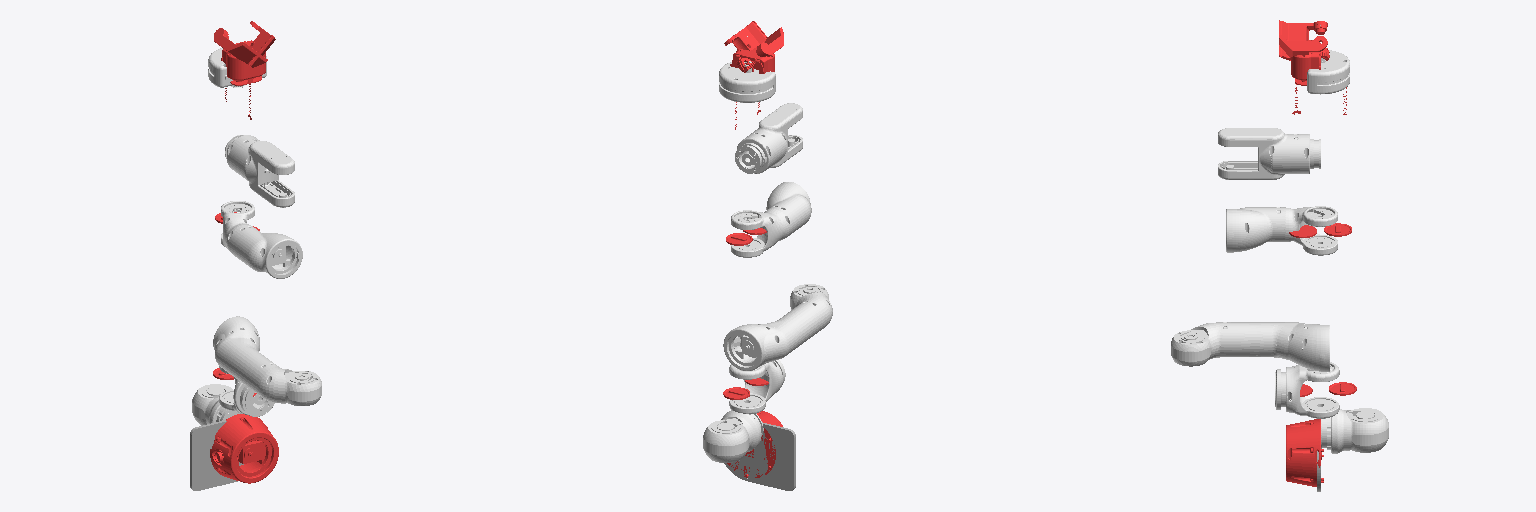
--- What the picture shows (computed from the rendered views, not written in the file) ---
Views: 3 orthographic renders of the robot side by side, from view 1: azimuth 30°, elevation 25°; view 2: azimuth 150°, elevation 25°; view 3: azimuth 270°, elevation 25°.
Robot: crane_x7 — 28 links, 27 joints (9 revolute, 18 fixed); root link world; default pose: joints at zero except 2 at the middle of their limits (crane_x7_gripper_finger_a_joint = 0.8153, crane_x7_gripper_finger_b_joint = 0.8153).
Links seen in each view (by area): view 1: crane_x7_upper_arm_revolute_part_link, crane_x7_lower_arm_fixed_part_link, crane_x7_shoulder_fixed_part_link, crane_x7_lower_arm_revolute_part_link, crane_x7_mounting_plate_link, crane_x7_shoulder_revolute_part_link, crane_x7_upper_arm_fixed_part_link, crane_x7_gripper_base_link, crane_x7_gripper_finger_a_link, crane_x7_wrist_link; view 2: crane_x7_upper_arm_revolute_part_link, crane_x7_lower_arm_fixed_part_link, crane_x7_lower_arm_revolute_part_link, crane_x7_mounting_plate_link, crane_x7_shoulder_revolute_part_link, crane_x7_wrist_link, crane_x7_upper_arm_fixed_part_link, crane_x7_gripper_finger_b_link, crane_x7_shoulder_fixed_part_link, crane_x7_gripper_base_link, crane_x7_gripper_finger_a_link; view 3: crane_x7_upper_arm_revolute_part_link, crane_x7_lower_arm_revolute_part_link, crane_x7_lower_arm_fixed_part_link, crane_x7_shoulder_revolute_part_link, crane_x7_upper_arm_fixed_part_link, crane_x7_shoulder_fixed_part_link, crane_x7_wrist_link, crane_x7_gripper_finger_a_link, crane_x7_gripper_base_link, crane_x7_gripper_finger_b_link.
Link boxes in pixels (x1,y1,x2,y2): crane_x7_upper_arm_revolute_part_link: (213,316,321,405); crane_x7_lower_arm_fixed_part_link: (221,201,302,278); crane_x7_shoulder_fixed_part_link: (210,414,278,483); crane_x7_lower_arm_revolute_part_link: (225,135,294,207); crane_x7_mounting_plate_link: (190,420,243,490); crane_x7_shoulder_revolute_part_link: (192,384,239,425); crane_x7_upper_arm_fixed_part_link: (219,366,274,416); crane_x7_gripper_base_link: (221,40,265,85); crane_x7_gripper_finger_a_link: (214,28,267,67); crane_x7_wrist_link: (208,48,266,87); crane_x7_upper_arm_revolute_part_link: (723,284,832,370); crane_x7_lower_arm_fixed_part_link: (731,182,811,257); crane_x7_lower_arm_revolute_part_link: (735,103,802,173); crane_x7_mounting_plate_link: (724,422,795,490); crane_x7_shoulder_revolute_part_link: (703,410,763,462); crane_x7_wrist_link: (719,61,775,102); crane_x7_upper_arm_fixed_part_link: (729,360,785,414); crane_x7_gripper_finger_b_link: (724,21,766,72); crane_x7_shoulder_fixed_part_link: (727,411,782,477); crane_x7_gripper_base_link: (730,44,774,73); crane_x7_gripper_finger_a_link: (736,27,783,72); crane_x7_upper_arm_revolute_part_link: (1171,322,1329,371); crane_x7_lower_arm_revolute_part_link: (1218,128,1320,179); crane_x7_lower_arm_fixed_part_link: (1226,206,1337,255); crane_x7_shoulder_revolute_part_link: (1321,408,1388,453); crane_x7_upper_arm_fixed_part_link: (1275,362,1339,418); crane_x7_shoulder_fixed_part_link: (1286,419,1323,486); crane_x7_wrist_link: (1307,50,1349,94); crane_x7_gripper_finger_a_link: (1279,20,1329,60); crane_x7_gripper_base_link: (1291,40,1320,85); crane_x7_gripper_finger_b_link: (1279,34,1329,57).
Size in the robot's own frame: 0.1299 by 0.312 by 0.7285 metres.
Meshes: 14 distinct files referenced, 19 mesh visuals loaded (14 Collada DAE).

The robot description file, URDF, robot "crane_x7":
<?xml version="1.0" ?>
<!-- =================================================================================== -->
<!-- |    This document was autogenerated by xacro from crane_x7.urdf.xacro            | -->
<!-- |    EDITING THIS FILE BY HAND IS NOT RECOMMENDED                                 | -->
<!-- =================================================================================== -->
<robot name="crane_x7" xmlns:controller="http://playerstage.sourceforge.net/gazebo/xmlschema/#controller" xmlns:interface="http://playerstage.sourceforge.net/gazebo/xmlschema/#interface" xmlns:sensor="http://playerstage.sourceforge.net/gazebo/xmlschema/#sensor">
  <material name="black">
    <color rgba="0.2 0.2 0.2 1.0"/>
  </material>
  <material name="white">
    <color rgba="0.95 0.95 0.95 1.0"/>
  </material>
  <material name="silver">
    <color rgba="0.75 0.75 0.75 1.0"/>
  </material>
  <material name="red">
    <color rgba="1.0 0.3 0.3 1.0"/>
  </material>
  <material name="green">
    <color rgba="0.3 1.0 0.3 1.0"/>
  </material>
  <material name="blue">
    <color rgba="0.3 0.3 1.0 1.0"/>
  </material>
  <!-- Link to provide the location reference for the arm -->
  <link name="base_link"/>
  <!-- Used for fixing robot to Gazebo 'base_link' -->
  <link name="world"/>
  <joint name="base_link_to_world_joint" type="fixed">
    <parent link="world"/>
    <child link="base_link"/>
  </joint>
  <joint name="crane_x7_mounting_plate_joint" type="fixed">
    <origin xyz="0 0 0"/>
    <parent link="base_link"/>
    <child link="crane_x7_mounting_plate_link"/>
  </joint>
  <link name="crane_x7_mounting_plate_link">
    <visual>
      <origin rpy="0 0 0" xyz="0 0 0"/>
      <geometry>
        <mesh filename="../meshes/visual/mounting_plate.dae" scale="1 1 1"/>
      </geometry>
      <material name="silver"/>
    </visual>
    <collision>
      <origin rpy="0 0 0" xyz="0 0 0"/>
      <geometry>
        <mesh filename="../meshes/collision/mounting_plate.obj" scale="1 1 1"/>
      </geometry>
      <!-- <sdf resolution="256"/> -->
    </collision>
  </link>
  <!-- For gazebo simulation -->
  <gazebo reference="crane_x7_mounting_plate_link">
    <material>Gazebo/Black</material>
  </gazebo>
  <!-- crane_x7_joint_base -->
  <joint name="crane_x7_shoulder_fixed_part_mount_joint" type="fixed">
    <origin rpy="0 0 0" xyz="0 0 0.005"/>
    <parent link="crane_x7_mounting_plate_link"/>
    <child link="crane_x7_shoulder_fixed_part_link"/>
  </joint>
  <!-- crane_x7_link_base -->
  <link name="crane_x7_shoulder_fixed_part_link">
    <visual>
      <origin rpy="0 0 0" xyz="0 0 0"/>
      <geometry>
        <mesh filename="../meshes/visual/base_fixed_part.dae" scale="1 1 1"/>
      </geometry>
      <material name="red"/>
    </visual>
    <collision>
      <origin rpy="0 0 0" xyz="0 0 0"/>
      <geometry>
        <mesh filename="../meshes/collision/base_fixed_part.obj" scale="1 1 1"/>
      </geometry>
      <!-- <sdf resolution="256"/> -->
    </collision>
    <inertial>
      <mass value="0.388"/>
      <origin rpy="0 0 0" xyz="-6.73E-03 -1.00E-06 1.79E-02"/>
      <inertia ixx="3.25E-04" ixy="1.20E-09" ixz="-4.71E-05" iyy="4.83E-04" iyz="1.95E-08" izz="5.86E-04"/>
    </inertial>
  </link>
  <!-- crane_x7_joint_1 -->
  <joint name="crane_x7_shoulder_fixed_part_pan_joint" type="revolute">
    <origin rpy="0 0 0" xyz="0 0 0.036"/>
    <axis xyz="0 0 1"/>
    <limit effort="10.0" lower="-2.97132" upper="2.97132" velocity="4.81710873"/>
    <parent link="crane_x7_shoulder_fixed_part_link"/>
    <child link="crane_x7_shoulder_revolute_part_link"/>
    <dynamics damping="1.0e-6" friction="2.0e-1"/>
  </joint>
  <!-- For gazebo simulation -->
  <transmission name="crane_x7_shoulder_fixed_part_pan_joint_trans">
    <provideFeedback>true</provideFeedback>
    <implicitSpringDamper>0</implicitSpringDamper>
    <motorTorqueConstant>0.418</motorTorqueConstant>
    <type>transmission_interface/SimpleTransmission</type>
    <joint name="crane_x7_shoulder_fixed_part_pan_joint">
      <hardwareInterface>hardware_interface/PositionJointInterface</hardwareInterface>
    </joint>
    <actuator name="crane_x7_shoulder_fixed_part_pan_joint_motor">
      <hardwareInterface>hardware_interface/PositionJointInterface</hardwareInterface>
      <mechanicalReduction>1</mechanicalReduction>
    </actuator>
  </transmission>
  <!-- crane_x7_link_1 -->
  <link name="crane_x7_shoulder_revolute_part_link">
    <visual>
      <origin rpy="0 0 3.14159" xyz="0 0 0"/>
      <geometry>
        <mesh filename="../meshes/visual/base_revolute_part.dae" scale="1 1 1"/>
      </geometry>
      <material name="white"/>
    </visual>
    <collision>
      <!--<origin xyz="0 0 0" rpy="0 0 ${M_PI}"/>-->
      <!--<geometry>-->
      <!--<mesh filename="../meshes/collision/base_revolute_part.obj"-->
      <!--scale="1 1 1"/>-->
      <!--</geometry>-->
      <origin rpy="0 0 0" xyz="0 0 0.0296"/>
      <geometry>
        <cylinder length="0.0295" radius="0.0334"/>
      </geometry>
      <!-- <sdf resolution="256"/> -->
    </collision>
    <collision>
      <origin rpy="1.570795 0 0" xyz="0 0 0.064"/>
      <geometry>
        <cylinder length="0.0491" radius="0.034"/>
      </geometry>
      <!-- <sdf resolution="256"/> -->
    </collision>
    <inertial>
      <mass value="0.253"/>
      <origin rpy="0 0 0" xyz="2.43e-04 -1.05E-04 4.70E-02"/>
      <inertia ixx="1.79E-04" ixy="-7.32E-08" ixz="8.89E-07" iyy="1.76E-04" iyz="6.23E-07" izz="8.96E-05"/>
    </inertial>
  </link>
  <!-- crane_x7_joint_2 -->
  <joint name="crane_x7_shoulder_revolute_part_tilt_joint" type="revolute">
    <origin rpy="0 0 0" xyz="0 0 0.064"/>
    <axis xyz="0 -1 0"/>
    <limit effort="10.0" lower="-1.570795" upper="1.570795" velocity="4.81710873"/>
    <parent link="crane_x7_shoulder_revolute_part_link"/>
    <child link="crane_x7_upper_arm_fixed_part_link"/>
    <dynamics damping="1.0e-6" friction="2.0e-1"/>
  </joint>
  <!-- For gazebo simulation -->
  <transmission name="crane_x7_shoulder_revolute_part_tilt_joint_trans">
    <provideFeedback>true</provideFeedback>
    <implicitSpringDamper>0</implicitSpringDamper>
    <motorTorqueConstant>0.418</motorTorqueConstant>
    <type>transmission_interface/SimpleTransmission</type>
    <joint name="crane_x7_shoulder_revolute_part_tilt_joint">
      <hardwareInterface>hardware_interface/PositionJointInterface</hardwareInterface>
    </joint>
    <actuator name="crane_x7_shoulder_revolute_part_tilt_joint_motor">
      <hardwareInterface>hardware_interface/PositionJointInterface</hardwareInterface>
      <mechanicalReduction>1</mechanicalReduction>
    </actuator>
  </transmission>
  <!-- crane_x7_link_2 -->
  <link name="crane_x7_upper_arm_fixed_part_link">
    <visual>
      <origin rpy="1.570795 0 0" xyz="0 0 0"/>
      <geometry>
        <mesh filename="../meshes/visual/rotating_link_type_1_fixed_part.dae" scale="1 1 1"/>
      </geometry>
      <material name="white"/>
    </visual>
    <collision>
      <origin rpy="1.570795 0 0" xyz="0 0 0"/>
      <geometry>
        <mesh filename="../meshes/collision/rotating_link_type_1_fixed_part.obj" scale="1 1 1"/>
      </geometry>
      <!-- <sdf resolution="256"/> -->
    </collision>
    <inertial>
      <mass value="0.136"/>
      <origin rpy="1.570795 0 0" xyz="3.10E-05 1.90E-05 3.42E-02"/>
      <inertia ixx="1.68E-04" ixy="2.05E-08" ixz="-4.00E-07" iyy="9.62E-05" iyz="6.24E-08" izz="1.34E-04"/>
    </inertial>
  </link>
  <!-- crane_x7_joint_cover_2_l -->
  <joint name="crane_x7_upper_arm_fixed_part_joint_cover_l_joint" type="fixed">
    <parent link="crane_x7_upper_arm_fixed_part_link"/>
    <child link="crane_x7_upper_arm_fixed_part_joint_cover_l_link"/>
    <origin rpy="0 0 0" xyz="0 0.0316 0"/>
  </joint>
  <!-- crane_x7_link_cover_2_l -->
  <link name="crane_x7_upper_arm_fixed_part_joint_cover_l_link">
    <visual>
      <origin rpy="-1.570795 0 0" xyz="0 0 0"/>
      <geometry>
        <mesh filename="../meshes/visual/joint_cover.dae" scale="1 1 1"/>
      </geometry>
      <material name="red"/>
    </visual>
    <collision>
      <origin rpy="-1.570795 0 0" xyz="0 0 0"/>
      <geometry>
        <mesh filename="../meshes/visual/joint_cover.dae" scale="1 1 1"/>
      </geometry>
      <!-- <sdf resolution="256"/> -->
    </collision>
  </link>
  <!-- crane_x7_joint_cover_2_r -->
  <joint name="crane_x7_upper_arm_fixed_part_joint_cover_r_joint" type="fixed">
    <parent link="crane_x7_upper_arm_fixed_part_link"/>
    <child link="crane_x7_upper_arm_fixed_part_joint_cover_r_link"/>
    <origin rpy="0 0 0" xyz="0 -0.0316 0"/>
  </joint>
  <!-- crane_x7_link_cover_2_r -->
  <link name="crane_x7_upper_arm_fixed_part_joint_cover_r_link">
    <visual>
      <origin rpy="1.570795 0 0" xyz="0 0 0"/>
      <geometry>
        <mesh filename="../meshes/visual/joint_cover.dae" scale="1 1 1"/>
      </geometry>
      <material name="red"/>
    </visual>
    <collision>
      <origin rpy="1.570795 0 0" xyz="0 0 0"/>
      <geometry>
        <mesh filename="../meshes/visual/joint_cover.dae" scale="1 1 1"/>
      </geometry>
      <!-- <sdf resolution="256"/> -->
    </collision>
  </link>
  <!-- crane_x7_joint_3 -->
  <joint name="crane_x7_upper_arm_revolute_part_twist_joint" type="revolute">
    <origin rpy="0 0 0" xyz="0 0 0.065"/>
    <axis xyz="0 0 1"/>
    <limit effort="4.0" lower="-1.570795" upper="1.570795" velocity="4.81710873"/>
    <parent link="crane_x7_upper_arm_fixed_part_link"/>
    <child link="crane_x7_upper_arm_revolute_part_link"/>
    <dynamics damping="1.0e-6" friction="2.0e-1"/>
  </joint>
  <!-- For gazebo simulation -->
  <transmission name="crane_x7_upper_arm_revolute_part_twist_joint_trans">
    <provideFeedback>true</provideFeedback>
    <implicitSpringDamper>0</implicitSpringDamper>
    <motorTorqueConstant>0.418</motorTorqueConstant>
    <type>transmission_interface/SimpleTransmission</type>
    <joint name="crane_x7_upper_arm_revolute_part_twist_joint">
      <hardwareInterface>hardware_interface/PositionJointInterface</hardwareInterface>
    </joint>
    <actuator name="crane_x7_upper_arm_revolute_part_twist_joint_motor">
      <hardwareInterface>hardware_interface/PositionJointInterface</hardwareInterface>
      <mechanicalReduction>1</mechanicalReduction>
    </actuator>
  </transmission>
  <!-- crane_x7_link_3 -->
  <link name="crane_x7_upper_arm_revolute_part_link">
    <visual>
      <origin rpy="0 0 0" xyz="0 0 0"/>
      <geometry>
        <mesh filename="../meshes/visual/rotating_link_type_1_revolute_part.dae" scale="1 1 1"/>
      </geometry>
      <material name="white"/>
    </visual>
    <collision>
      <origin rpy="0 0 0" xyz="0 0 0"/>
      <geometry>
        <mesh filename="../meshes/collision/rotating_link_type_1_revolute_part.obj" scale="1 1 1"/>
      </geometry>
      <!-- <sdf resolution="256"/> -->
    </collision>
    <inertial>
      <mass value="0.321"/>
      <origin rpy="0 0 0" xyz="-1.37E-02 -8.10E-05 9.52E-02"/>
      <inertia ixx="1.82E-03" ixy="7.54E-07" ixz="-3.73E-05" iyy="1.88E-03" iyz="4.15E-06" izz="1.59E-04"/>
    </inertial>
  </link>
  <!-- crane_x7_joint_4 -->
  <joint name="crane_x7_upper_arm_revolute_part_rotate_joint" type="revolute">
    <origin rpy="0 0 0" xyz="0 0 0.185"/>
    <axis xyz="0 -1 0"/>
    <limit effort="4.0" lower="-2.80718" upper="0.04141" velocity="4.81710873"/>
    <parent link="crane_x7_upper_arm_revolute_part_link"/>
    <child link="crane_x7_lower_arm_fixed_part_link"/>
    <dynamics damping="1.0e-6" friction="2.0e-1"/>
  </joint>
  <!-- For gazebo simulation -->
  <transmission name="crane_x7_upper_arm_revolute_part_rotate_joint_trans">
    <provideFeedback>true</provideFeedback>
    <implicitSpringDamper>0</implicitSpringDamper>
    <motorTorqueConstant>0.418</motorTorqueConstant>
    <type>transmission_interface/SimpleTransmission</type>
    <joint name="crane_x7_upper_arm_revolute_part_rotate_joint">
      <hardwareInterface>hardware_interface/PositionJointInterface</hardwareInterface>
    </joint>
    <actuator name="crane_x7_upper_arm_revolute_part_rotate_joint_motor">
      <hardwareInterface>hardware_interface/PositionJointInterface</hardwareInterface>
      <mechanicalReduction>1</mechanicalReduction>
    </actuator>
  </transmission>
  <!-- crane_x7_link_4 -->
  <link name="crane_x7_lower_arm_fixed_part_link">
    <visual>
      <origin rpy="1.570795 0 0" xyz="0 0 0"/>
      <geometry>
        <mesh filename="../meshes/visual/rotating_link_type_2_fixed_part.dae" scale="1 1 1"/>
      </geometry>
      <material name="white"/>
    </visual>
    <collision>
      <origin rpy="1.570795 0 0" xyz="0 0 0"/>
      <geometry>
        <mesh filename="../meshes/collision/rotating_link_type_2_fixed_part.obj" scale="1 1 1"/>
      </geometry>
      <!-- <sdf resolution="256"/> -->
    </collision>
    <inertial>
      <mass value="0.222"/>
      <origin rpy="1.570795 0 0" xyz="-9.39E-03 6.40E-05 8.04E-02"/>
      <inertia ixx="4.89E-04" ixy="-3.90E-06" ixz="8.29E-08" iyy="1.14E-04" iyz="2.82E-06" izz="5.03E-04"/>
    </inertial>
  </link>
  <!-- crane_x7_joint_cover_4_l -->
  <joint name="crane_x7_lower_arm_fixed_part_joint_cover_l_joint" type="fixed">
    <parent link="crane_x7_lower_arm_fixed_part_link"/>
    <child link="crane_x7_lower_arm_fixed_part_joint_cover_l_link"/>
    <origin rpy="0 0 0" xyz="0 0.025 0"/>
  </joint>
  <!-- crane_x7_link_cover_4_l -->
  <link name="crane_x7_lower_arm_fixed_part_joint_cover_l_link">
    <visual>
      <origin rpy="-1.570795 0 0" xyz="0 0 0"/>
      <geometry>
        <mesh filename="../meshes/visual/joint_cover.dae" scale="1 1 1"/>
      </geometry>
      <material name="red"/>
    </visual>
    <collision>
      <origin rpy="-1.570795 0 0" xyz="0 0 0"/>
      <geometry>
        <mesh filename="../meshes/visual/joint_cover.dae" scale="1 1 1"/>
      </geometry>
      <!-- <sdf resolution="256"/> -->
    </collision>
  </link>
  <!-- crane_x7_joint_cover_4_r -->
  <joint name="crane_x7_lower_arm_fixed_part_joint_cover_r_joint" type="fixed">
    <parent link="crane_x7_lower_arm_fixed_part_link"/>
    <child link="crane_x7_lower_arm_fixed_part_joint_cover_r_link"/>
    <origin rpy="0 0 0" xyz="0 -0.025 0"/>
  </joint>
  <!-- crane_x7_link_cover_4_r -->
  <link name="crane_x7_lower_arm_fixed_part_joint_cover_r_link">
    <visual>
      <origin rpy="1.570795 0 0" xyz="0 0 0"/>
      <geometry>
        <mesh filename="../meshes/visual/joint_cover.dae" scale="1 1 1"/>
      </geometry>
      <material name="red"/>
    </visual>
    <collision>
      <origin rpy="1.570795 0 0" xyz="0 0 0"/>
      <geometry>
        <mesh filename="../meshes/visual/joint_cover.dae" scale="1 1 1"/>
      </geometry>
      <!-- <sdf resolution="256"/> -->
    </collision>
  </link>
  <!-- crane_x7_joint_5 -->
  <joint name="crane_x7_lower_arm_fixed_part_joint" type="revolute">
    <origin rpy="0 0 0" xyz="0 0 0.121"/>
    <axis xyz="0 0 1"/>
    <limit effort="4.0" lower="-2.77343" upper="2.77343" velocity="4.81710873"/>
    <parent link="crane_x7_lower_arm_fixed_part_link"/>
    <child link="crane_x7_lower_arm_revolute_part_link"/>
    <dynamics damping="1.0e-6" friction="2.0e-1"/>
  </joint>
  <!-- For gazebo simulation -->
  <transmission name="crane_x7_lower_arm_fixed_part_joint_trans">
    <provideFeedback>true</provideFeedback>
    <implicitSpringDamper>0</implicitSpringDamper>
    <motorTorqueConstant>0.418</motorTorqueConstant>
    <type>transmission_interface/SimpleTransmission</type>
    <joint name="crane_x7_lower_arm_fixed_part_joint">
      <hardwareInterface>hardware_interface/PositionJointInterface</hardwareInterface>
    </joint>
    <actuator name="crane_x7_lower_arm_fixed_part_joint_motor">
      <hardwareInterface>hardware_interface/PositionJointInterface</hardwareInterface>
      <mechanicalReduction>1</mechanicalReduction>
    </actuator>
  </transmission>
  <!-- crane_x7_link_5 -->
  <link name="crane_x7_lower_arm_revolute_part_link">
    <visual>
      <origin rpy="0 0 0" xyz="0 0 0"/>
      <geometry>
        <mesh filename="../meshes/visual/rotating_link_type_2_revolute_part.dae" scale="1 1 1"/>
      </geometry>
      <material name="white"/>
    </visual>
    <collision>
      <origin rpy="0 0 0" xyz="0 0 0"/>
      <geometry>
        <mesh filename="../meshes/collision/rotating_link_type_2_revolute_part.obj" scale="1 1 1"/>
      </geometry>
      <!-- <sdf resolution="256"/> -->
    </collision>
    <inertial>
      <mass value="0.207"/>
      <origin rpy="0 0 0" xyz="-8.40E-05 4.62E-04 6.37E-02"/>
      <inertia ixx="2.90E-04" ixy="1.00E-07" ixz="-4.77E-07" iyy="2.57E-04" iyz="-1.69E-05" izz="8.75E-05"/>
    </inertial>
  </link>
  <!-- Left side logo text -->
  <link name="crane_x7_lower_arm_revolute_part_logo_text_l_link">
    <visual>
      <origin rpy="-1.570795 1.570795 0" xyz="0 0 0"/>
      <geometry>
        <mesh filename="../meshes/visual/rtcorp_logo_name.dae" scale="1 1 1"/>
      </geometry>
      <material name="logo_red">
        <color rgba="1.0 0.3 0.3 1.0"/>
      </material>
    </visual>
    <collision>
      <origin rpy="-1.570795 1.570795 0" xyz="0 0 0"/>
      <geometry>
        <mesh filename="../meshes/visual/rtcorp_logo_name.dae" scale="1 1 1"/>
      </geometry>
      <!-- <sdf resolution="256"/> -->
    </collision>
  </link>
  <joint name="crane_x7_lower_arm_revolute_part_logo_text_l_joint" type="fixed">
    <parent link="crane_x7_lower_arm_revolute_part_link"/>
    <child link="crane_x7_lower_arm_revolute_part_logo_text_l_link"/>
    <origin rpy="0 0 0" xyz="0 0.0345 0.095"/>
  </joint>
  <!-- Left side logo symbol -->
  <link name="crane_x7_lower_arm_revolute_part_logo_symbol_l_link">
    <visual>
      <origin rpy="-1.570795 1.570795 0" xyz="0 0 0"/>
      <geometry>
        <mesh filename="../meshes/visual/rtcorp_logo_rabbit.dae" scale="1 1 1"/>
      </geometry>
      <material name="logo_red"/>
    </visual>
    <collision>
      <origin rpy="-1.570795 1.570795 0" xyz="0 0 0"/>
      <geometry>
        <mesh filename="../meshes/visual/rtcorp_logo_rabbit.dae" scale="1 1 1"/>
      </geometry>
      <!-- <sdf resolution="256"/> -->
    </collision>
  </link>
  <joint name="crane_x7_lower_arm_revolute_part_logo_symbol_l_joint" type="fixed">
    <parent link="crane_x7_lower_arm_revolute_part_link"/>
    <child link="crane_x7_lower_arm_revolute_part_logo_symbol_l_link"/>
    <origin rpy="0 0 0" xyz="0 0.0345 0.132"/>
  </joint>
  <!-- Right side logo text -->
  <link name="crane_x7_lower_arm_revolute_part_logo_text_r_link">
    <visual>
      <origin rpy="1.570795 -1.570795 0" xyz="0 0 0"/>
      <geometry>
        <mesh filename="../meshes/visual/rtcorp_logo_name.dae" scale="1 1 1"/>
      </geometry>
      <material name="logo_red"/>
    </visual>
    <collision>
      <origin rpy="1.570795 -1.570795 0" xyz="0 0 0"/>
      <geometry>
        <mesh filename="../meshes/visual/rtcorp_logo_name.dae" scale="1 1 1"/>
      </geometry>
      <!-- <sdf resolution="256"/> -->
    </collision>
  </link>
  <joint name="crane_x7_lower_arm_revolute_part_logo_text_r_joint" type="fixed">
    <parent link="crane_x7_lower_arm_revolute_part_link"/>
    <child link="crane_x7_lower_arm_revolute_part_logo_text_r_link"/>
    <origin rpy="0 0 0" xyz="0 -0.0345 0.104"/>
  </joint>
  <!-- Right side logo symbol -->
  <link name="crane_x7_lower_arm_revolute_part_logo_symbol_r_link">
    <visual>
      <origin rpy="1.570795 -1.570795 0" xyz="0 0 0"/>
      <geometry>
        <mesh filename="../meshes/visual/rtcorp_logo_rabbit.dae" scale="1 1 1"/>
      </geometry>
      <material name="logo_red"/>
    </visual>
    <collision>
      <origin rpy="1.570795 -1.570795 0" xyz="0 0 0"/>
      <geometry>
        <mesh filename="../meshes/visual/rtcorp_logo_rabbit.dae" scale="1 1 1"/>
      </geometry>
      <!-- <sdf resolution="256"/> -->
    </collision>
  </link>
  <joint name="crane_x7_lower_arm_revolute_part_logo_symbol_r_joint" type="fixed">
    <parent link="crane_x7_lower_arm_revolute_part_link"/>
    <child link="crane_x7_lower_arm_revolute_part_logo_symbol_r_link"/>
    <origin rpy="0 0 0" xyz="0 -0.0345 0.065"/>
  </joint>
  <!-- For gazebo simulation -->
  <gazebo reference="crane_x7_lower_arm_revolute_part_logo_symbol_r_link">
    <material>Gazebo/Red</material>
  </gazebo>
  <gazebo reference="crane_x7_lower_arm_revolute_part_logo_symbol_l_link">
    <material>Gazebo/Red</material>
  </gazebo>
  <gazebo reference="crane_x7_lower_arm_revolute_part_logo_text_r_link">
    <material>Gazebo/Black</material>
  </gazebo>
  <gazebo reference="crane_x7_lower_arm_revolute_part_logo_text_l_link">
    <material>Gazebo/Black</material>
  </gazebo>
  <!-- crane_x7_joint_6 -->
  <joint name="crane_x7_lower_arm_revolute_part_joint" type="revolute">
    <origin rpy="0 0 0" xyz="0 0 0.129"/>
    <axis xyz="0 -1 0"/>
    <limit effort="4.0" lower="-1.570795" upper="1.570795" velocity="4.81710873"/>
    <parent link="crane_x7_lower_arm_revolute_part_link"/>
    <child link="crane_x7_wrist_link"/>
    <dynamics damping="1.0e-6" friction="2.0e-1"/>
  </joint>
  <!-- For gazebo simulation -->
  <transmission name="crane_x7_lower_arm_revolute_part_joint_trans">
    <provideFeedback>true</provideFeedback>
    <implicitSpringDamper>0</implicitSpringDamper>
    <motorTorqueConstant>0.418</motorTorqueConstant>
    <type>transmission_interface/SimpleTransmission</type>
    <joint name="crane_x7_lower_arm_revolute_part_joint">
      <hardwareInterface>hardware_interface/PositionJointInterface</hardwareInterface>
    </joint>
    <actuator name="crane_x7_lower_arm_revolute_part_joint_motor">
      <hardwareInterface>hardware_interface/PositionJointInterface</hardwareInterface>
      <mechanicalReduction>1</mechanicalReduction>
    </actuator>
  </transmission>
  <!-- crane_x7_link_6 -->
  <link name="crane_x7_wrist_link">
    <visual>
      <origin rpy="1.570795 0 0" xyz="0 0 0"/>
      <geometry>
        <mesh filename="../meshes/visual/wrist.dae" scale="1 1 1"/>
      </geometry>
      <material name="white"/>
    </visual>
    <collision>
      <origin rpy="1.570795 0 0" xyz="0 0 0"/>
      <geometry>
        <mesh filename="../meshes/collision/wrist.obj" scale="1 1 1"/>
      </geometry>
      <!-- <sdf resolution="256"/> -->
    </collision>
    <inertial>
      <mass value="0.14"/>
      <origin rpy="1.570795 0 0" xyz="6.10E-03 8.26E-04 -3.55E-03"/>
      <inertia ixx="4.01E-05" ixy="-2.91E-06" ixz="6.39E-07" iyy="6.13E-05" iyz="-4.90E-07" izz="7.35E-05"/>
    </inertial>
  </link>
  <!-- crane_x7_joint_7 -->
  <joint name="crane_x7_wrist_joint" type="revolute">
    <origin rpy="0 0 0" xyz="0 0 0.019"/>
    <axis xyz="0 0 1"/>
    <limit effort="4.0" lower="-2.96365" upper="2.97132" velocity="4.81710873"/>
    <parent link="crane_x7_wrist_link"/>
    <child link="crane_x7_gripper_base_link"/>
    <dynamics damping="1.0e-6" friction="2.0e-1"/>
  </joint>
  <!-- For gazebo simulation -->
  <transmission name="crane_x7_wrist_joint_trans">
    <provideFeedback>true</provideFeedback>
    <implicitSpringDamper>0</implicitSpringDamper>
    <motorTorqueConstant>0.418</motorTorqueConstant>
    <type>transmission_interface/SimpleTransmission</type>
    <joint name="crane_x7_wrist_joint">
      <hardwareInterface>hardware_interface/PositionJointInterface</hardwareInterface>
    </joint>
    <actuator name="crane_x7_wrist_joint_motor">
      <hardwareInterface>hardware_interface/PositionJointInterface</hardwareInterface>
      <mechanicalReduction>1</mechanicalReduction>
    </actuator>
  </transmission>
  <gazebo>
    <plugin filename="libgazebo_ros_control.so" name="gazebo_ros_control">
      <robotNamespace>/crane_x7</robotNamespace>
      <robotSimType>gazebo_ros_control/DefaultRobotHWSim</robotSimType>
      <legacyModeNS>false</legacyModeNS>
    </plugin>
  </gazebo>
  <gazebo reference="crane_x7_shoulder_fixed_part_link">
    <material>Gazebo/Red</material>
  </gazebo>
  <gazebo reference="crane_x7_shoulder_revolute_part_link">
    <material>Gazebo/White</material>
  </gazebo>
  <gazebo reference="crane_x7_upper_arm_fixed_part_link">
    <material>Gazebo/White</material>
  </gazebo>
  <gazebo reference="crane_x7_upper_arm_revolute_part_link">
    <material>Gazebo/White</material>
  </gazebo>
  <gazebo reference="crane_x7_lower_arm_fixed_part_link">
    <material>Gazebo/White</material>
  </gazebo>
  <gazebo reference="crane_x7_lower_arm_revolute_part_link">
    <material>Gazebo/White</material>
  </gazebo>
  <gazebo reference="crane_x7_wrist_link">
    <material>Gazebo/White</material>
  </gazebo>
  <gazebo reference="crane_x7_upper_arm_fixed_part_joint_cover_l_link">
    <material>Gazebo/Red</material>
  </gazebo>
  <gazebo reference="crane_x7_upper_arm_fixed_part_joint_cover_r_link">
    <material>Gazebo/Red</material>
  </gazebo>
  <gazebo reference="crane_x7_lower_arm_fixed_part_joint_cover_l_link">
    <material>Gazebo/Red</material>
  </gazebo>
  <gazebo reference="crane_x7_lower_arm_fixed_part_joint_cover_r_link">
    <material>Gazebo/Red</material>
  </gazebo>
  <link name="crane_x7_gripper_base_link">
    <visual>
      <origin rpy="0 0 0" xyz="0 0 0"/>
      <geometry>
        <mesh filename="../meshes/visual/wide_two_finger_gripper_actuator.dae" scale="1 1 1"/>
      </geometry>
      <material name="red"/>
    </visual>
    <collision>
      <origin rpy="0 0 0" xyz="0 0 0"/>
      <geometry>
        <mesh filename="../meshes/collision/wide_two_finger_gripper_actuator.obj" scale="1 1 1"/>
      </geometry>
      <!-- <sdf resolution="256"/> -->
    </collision>
    <inertial>
      <mass value="0.121"/>
      <origin rpy="0 0 0" xyz="1.08E-04 -1.03E-03 2.08E-02"/>
      <inertia ixx="3.20E-05" ixy="-9.45E-08" ixz="2.61E-07" iyy="4.14E-05" iyz="3.88E-07" izz="4.29E-05"/>
    </inertial>
  </link>

  <link name="endeffector_position">
    <visual>
      <geometry>
        <box size="0.001 0.001 0.001"/>
      </geometry>
      <material name="endeffector_position_color">
        <color rgba="1.0 1.0 1.0 1"/>
      </material>
    </visual>
    <inertial>
      <mass value="0.0"/>
    </inertial>
  </link>

  <joint name="crane_x7_gripper_finger_aaa_joint" type="fixed">
    <origin rpy="0 0 0" xyz="0.0 0.0 0.054"/>
    <parent link="crane_x7_gripper_base_link"/>
    <child link="endeffector_position"/>
  </joint>

  <joint name="crane_x7_gripper_finger_a_joint" type="revolute">
    <origin rpy="0 0 0" xyz="-0.012 0.0 0.024"/>
    <axis xyz="0 -1 0"/>
    <limit effort="4.0" lower="0.0046" upper="1.62601" velocity="4.81710873"/>
    <parent link="crane_x7_gripper_base_link"/>
    <child link="crane_x7_gripper_finger_a_link"/>
    <dynamics damping="1.0e-6" friction="8.0e-1"/>
  </joint>
  <!-- for gazebo -->
  <transmission name="crane_x7_gripper_finger_a_joint_trans">
    <provideFeedback>true</provideFeedback>
    <implicitSpringDamper>0</implicitSpringDamper>
    <motorTorqueConstant>0.418</motorTorqueConstant>
    <type>transmission_interface/SimpleTransmission</type>
    <joint name="crane_x7_gripper_finger_a_joint">
      <hardwareInterface>hardware_interface/PositionJointInterface</hardwareInterface>
    </joint>
    <actuator name="crane_x7_gripper_finger_a_joint_motor">
      <hardwareInterface>hardware_interface/PositionJointInterface</hardwareInterface>
      <mechanicalReduction>1</mechanicalReduction>
    </actuator>
  </transmission>
  <link name="crane_x7_gripper_finger_a_link">
    <visual>
      <origin rpy="1.570795 0 0" xyz="0 0 0"/>
      <geometry>
        <mesh filename="../meshes/visual/wide_two_finger_gripper_finger_a.dae" scale="1 1 1"/>
      </geometry>
      <material name="red"/>
    </visual>
    <inertial>
      <mass value="0.0158"/>
      <origin rpy="1.570795 0 0" xyz="-2.65E-03 3.54E-03 2.69E-02"/>
      <inertia ixx="1.01E-05" ixy="-1.97E-07" ixz="-9.89E-08" iyy="4.95E-06" iyz="5.37E-07" izz="6.24E-06"/>
    </inertial>
  </link>
  <link name="gripper_a_collision_1">
    <collision>
      <geometry>
        <box size="0.015 0.054 0.022"/>
      </geometry>
    </collision>
    <inertial>
      <mass value="0.001"/>
    </inertial>
  </link>
  <link name="gripper_a_collision_2">
    <collision>
      <geometry>
        <box size="0.008 0.054 0.022"/>
      </geometry>
    </collision>
    <inertial>
      <mass value="0.001"/>
    </inertial>
  </link>
  <link name="gripper_a_collision_3">
    <collision>
      <geometry>
        <box size="0.008 0.054 0.006"/>
      </geometry>
    </collision>
    <inertial>
      <mass value="0.001"/>
    </inertial>
  </link>
  <joint name="crane_x7_gripper_finger_a_joint_collision_1" type="fixed">
    <origin rpy="0 0 0" xyz="-0.005 0.0 0.034"/>
    <parent link="crane_x7_gripper_finger_a_link"/>
    <child link="gripper_a_collision_1"/>
  </joint>
  <joint name="crane_x7_gripper_finger_a_joint_collision_2" type="fixed">
    <origin rpy="0 0.78 0" xyz="-0.001 0.0 0.05"/>
    <parent link="crane_x7_gripper_finger_a_link"/>
    <child link="gripper_a_collision_2"/>
  </joint>
  <joint name="crane_x7_gripper_finger_a_joint_collision_3" type="fixed">
    <origin rpy="0 0 0" xyz="0.0075 0.0 0.058"/>
    <parent link="crane_x7_gripper_finger_a_link"/>
    <child link="gripper_a_collision_3"/>
  </joint>

  <joint name="crane_x7_gripper_finger_b_joint" type="revolute">
    <origin rpy="0 0 0" xyz="0.012 0.0 0.024"/>
    <axis xyz="0 1 0"/>
    <limit effort="4.0" lower="0.0046" upper="1.62601" velocity="4.81710873"/>
    <parent link="crane_x7_gripper_base_link"/>
    <child link="crane_x7_gripper_finger_b_link"/>
    <mimic joint="crane_x7_gripper_finger_a_joint"/>
    <dynamics damping="1.0e-6" friction="8.0e-1"/>
  </joint>
  <link name="crane_x7_gripper_finger_b_link">
    <visual>
      <origin rpy="1.570795 0 0" xyz="0 0 0"/>
      <geometry>
        <mesh filename="../meshes/visual/wide_two_finger_gripper_finger_b.dae" scale="1 1 1"/>
      </geometry>
      <material name="red"/>
    </visual>
    <inertial>
      <mass value="0.0139"/>
      <origin rpy="1.570795 0 0" xyz="3.01E-03 2.85E-03 3.09E-02"/>
      <inertia ixx="7.48E-06" ixy="3.61E-07" ixz="6.34E-08" iyy="4.09E-06" iyz="2.28E-07" izz="4.37E-06"/>
    </inertial>
  </link>
  <link name="gripper_b_collision_1">
    <collision>
      <geometry>
        <box size="0.015 0.054 0.022"/>
      </geometry>
    </collision>
    <inertial>
      <mass value="0.001"/>
    </inertial>
  </link>
  <link name="gripper_b_collision_2">
    <collision>
      <geometry>
        <box size="0.008 0.054 0.022"/>
      </geometry>
    </collision>
    <inertial>
      <mass value="0.001"/>
    </inertial>
  </link>
  <link name="gripper_b_collision_3">
    <collision>
      <geometry>
        <box size="0.008 0.054 0.006"/>
      </geometry>
    </collision>
    <inertial>
      <mass value="0.001"/>
    </inertial>
  </link>
  <joint name="crane_x7_gripper_finger_b_joint_collision_1" type="fixed">
    <origin rpy="0 0 0" xyz="0.005 0.0 0.034"/>
    <parent link="crane_x7_gripper_finger_b_link"/>
    <child link="gripper_b_collision_1"/>
  </joint>
  <joint name="crane_x7_gripper_finger_b_joint_collision_2" type="fixed">
    <origin rpy="0 -0.78 0" xyz="0.001 0.0 0.05"/>
    <parent link="crane_x7_gripper_finger_b_link"/>
    <child link="gripper_b_collision_2"/>
  </joint>
  <joint name="crane_x7_gripper_finger_b_joint_collision_3" type="fixed">
    <origin rpy="0 0 0" xyz="-0.0075 0.0 0.058"/>
    <parent link="crane_x7_gripper_finger_b_link"/>
    <child link="gripper_b_collision_3"/>
  </joint>

  <!-- For gazebo simulation -->
  <gazebo>
    <plugin filename="libroboticsgroup_upatras_gazebo_mimic_joint_plugin.so" name="crane_x7_gripper_mimic_joint">
      <joint>crane_x7_gripper_finger_a_joint</joint>
      <mimicJoint>crane_x7_gripper_finger_b_joint</mimicJoint>
      <multiplier>1</multiplier>
    </plugin>
  </gazebo>
  <gazebo reference="crane_x7_gripper_base_link">
    <material>Gazebo/Red</material>
  </gazebo>
  <gazebo reference="crane_x7_gripper_finger_a_link">
    <mu1>0.8</mu1>
    <mu2>0.8</mu2>
    <material>Gazebo/Red</material>
  </gazebo>
  <gazebo reference="crane_x7_gripper_finger_b_link">
    <mu1>0.8</mu1>
    <mu2>0.8</mu2>
    <material>Gazebo/Red</material>
  </gazebo>
</robot>
